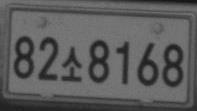1: (113, 41, 135, 85)
2: (37, 36, 59, 80)
6: (136, 42, 159, 86)
8: (87, 38, 110, 84), (161, 42, 184, 87), (12, 34, 34, 79)
소: (60, 46, 83, 82)
